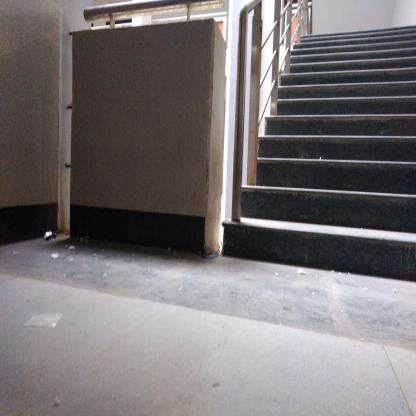stairs: (303, 39, 416, 289)
